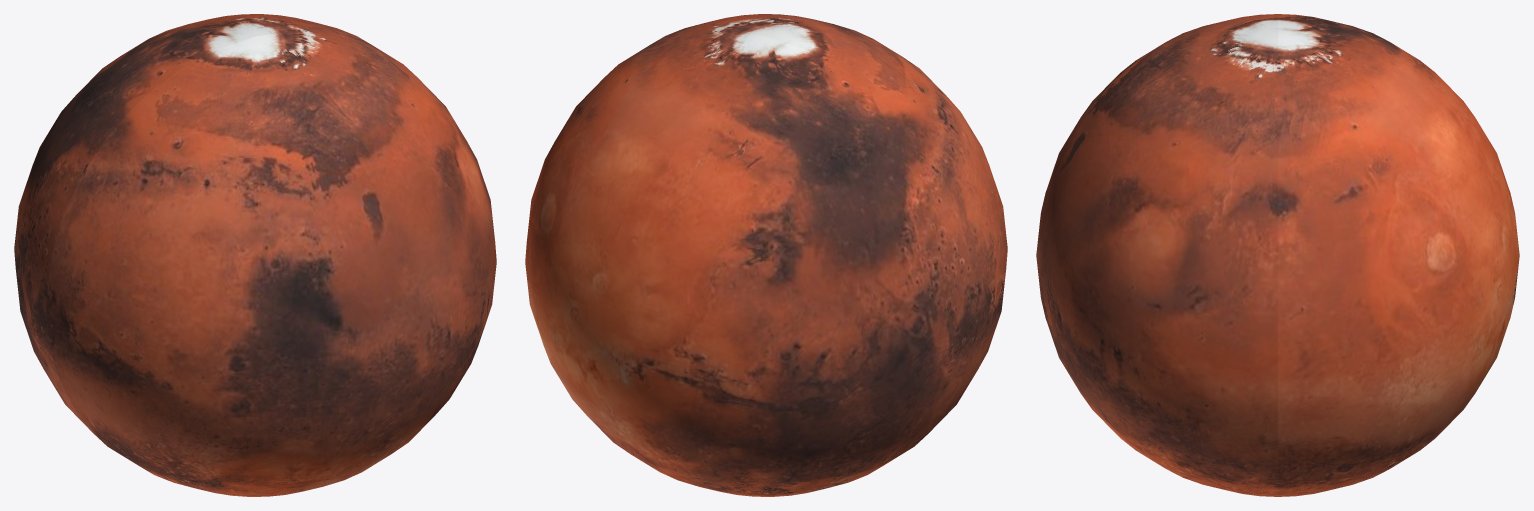
Rendered from Mars.glb.
3 views of the same model, side by side, from view 1: azimuth 30°, elevation 25°; view 2: azimuth 150°, elevation 25°; view 3: azimuth 270°, elevation 25° (orthographic).
Visible parts, largest first — view 1: Sphere.106, Sphere.105; view 2: Sphere.105, Sphere.106; view 3: Sphere.105, Sphere.106.
Boxes of the visible parts, bbox=[...] form: Sphere.106: bbox=[46, 30, 496, 496]; Sphere.105: bbox=[14, 14, 370, 443]; Sphere.105: bbox=[525, 30, 975, 496]; Sphere.106: bbox=[651, 14, 1007, 443]; Sphere.105: bbox=[1278, 14, 1519, 496]; Sphere.106: bbox=[1036, 14, 1277, 496].
Size of the model in its own units: 2 by 2 by 2.
Materials: 6 (6 with a texture image).
